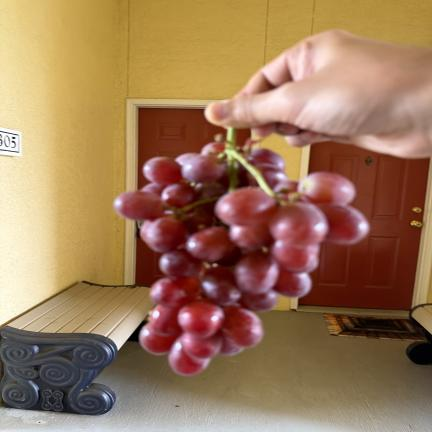grape_cluster: (114, 129, 369, 376)
